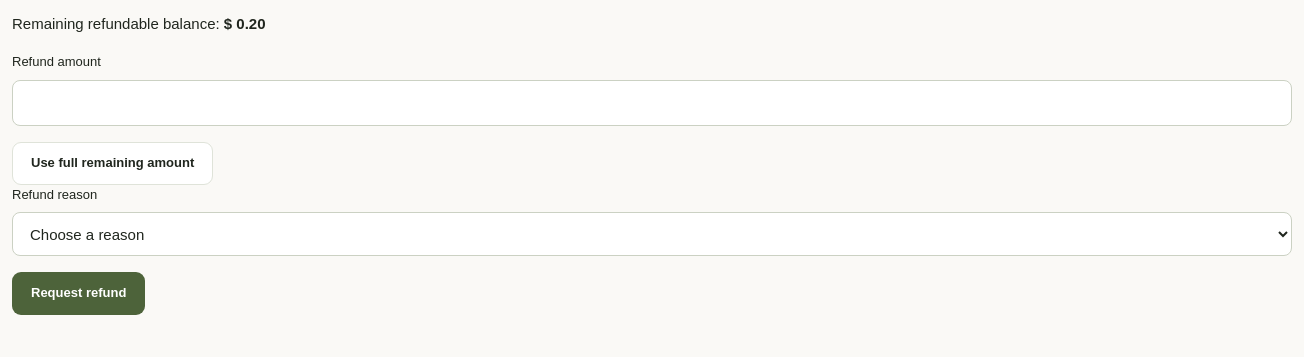
requires a supported refund reason before creating a refund
In the field labelled "Refund amount": [652, 103] box x1=12 y1=80 x2=1292 y2=126, type "0.10"
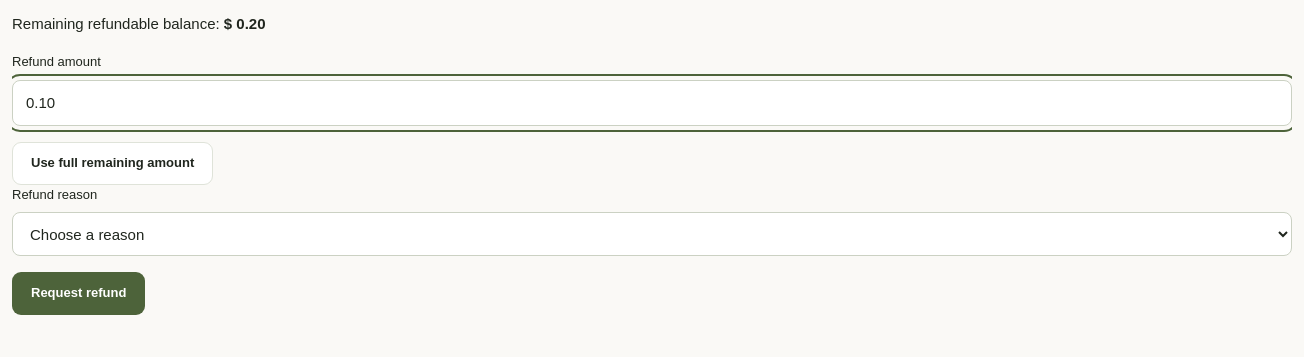
Click the button "Request refund": [79, 294] box x1=12 y1=272 x2=145 y2=315
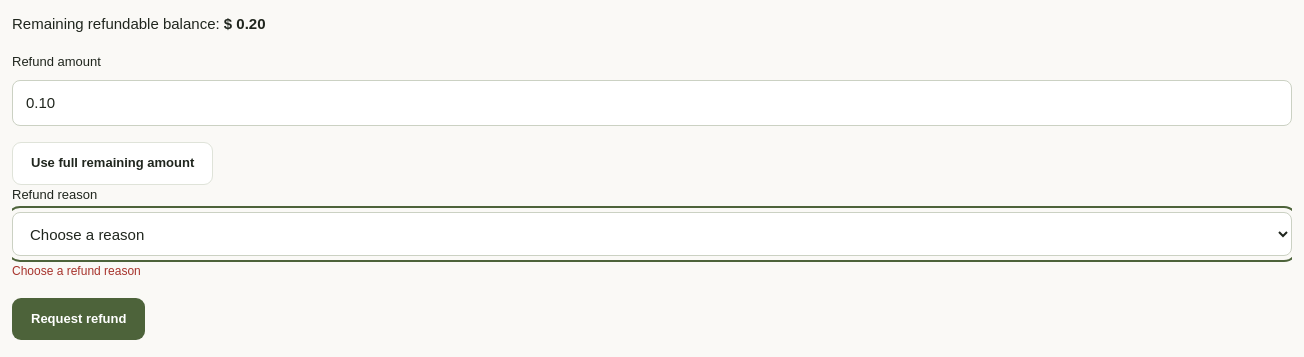
Check: the message reads "Choose a refund reason", box x1=12 y1=264 x2=141 y2=278
